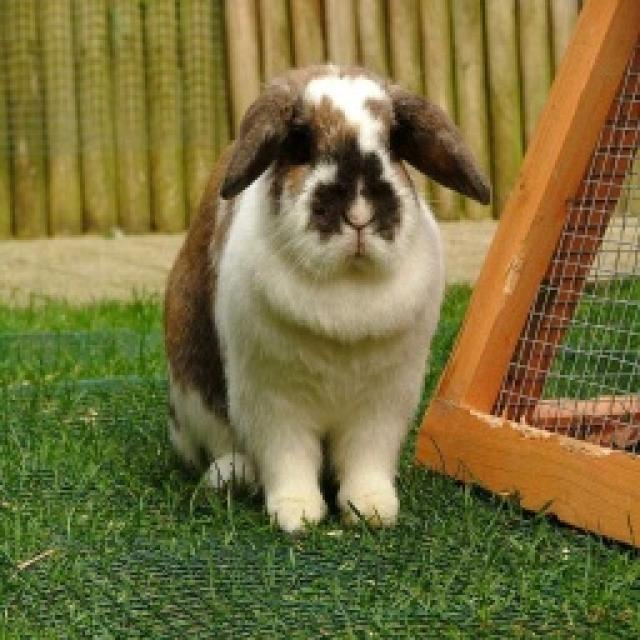not_pig: (160, 60, 492, 532)
